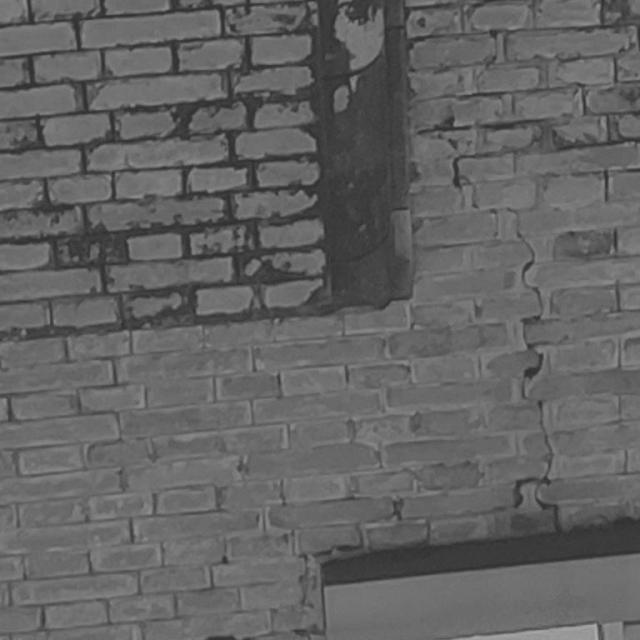crack: (422, 133, 560, 532), (298, 497, 402, 558)
